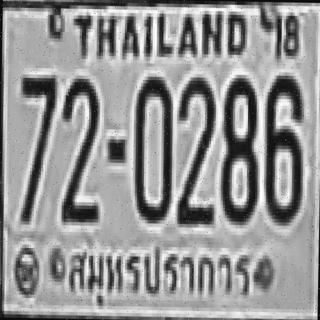N00: (132, 73, 171, 220)
N02: (59, 75, 98, 222), (175, 75, 214, 222)
N06: (263, 72, 302, 222)
N07: (18, 74, 55, 222)
N08: (218, 74, 257, 222)
P57: (56, 235, 254, 305)
